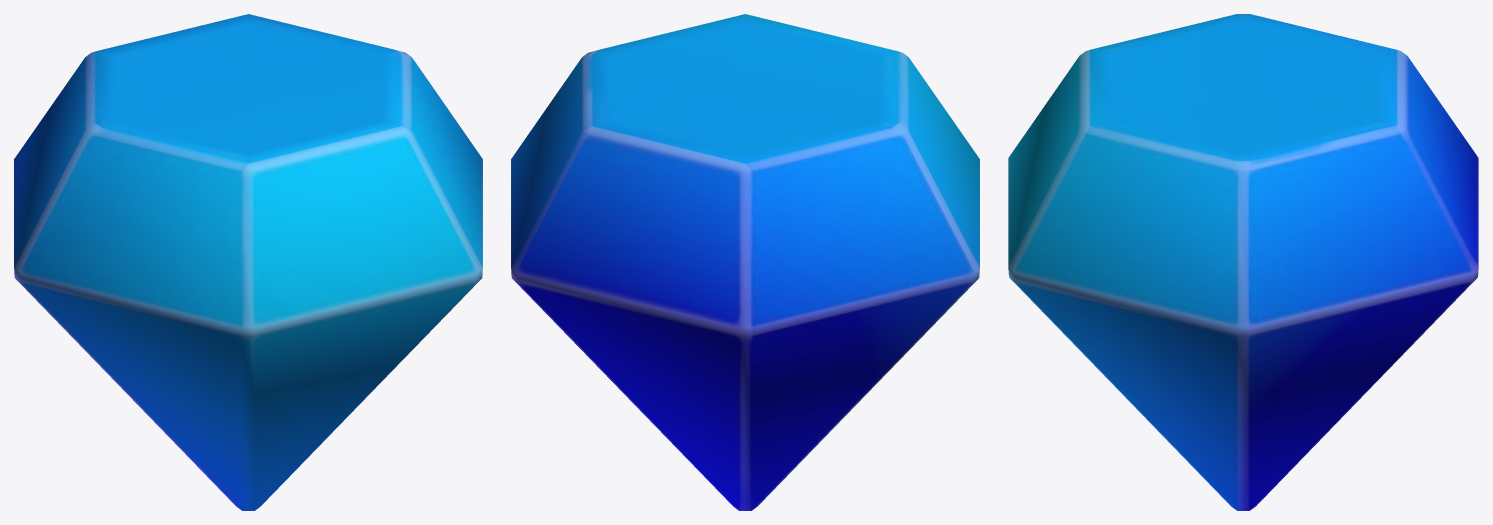
Rendered from gem-blue.glb.
3 views of the same model, side by side, from view 1: azimuth 30°, elevation 25°; view 2: azimuth 150°, elevation 25°; view 3: azimuth 270°, elevation 25° (orthographic).
Size of the model in its own units: 1 by 0.8623 by 0.8773.
1 material, 1 textured.
